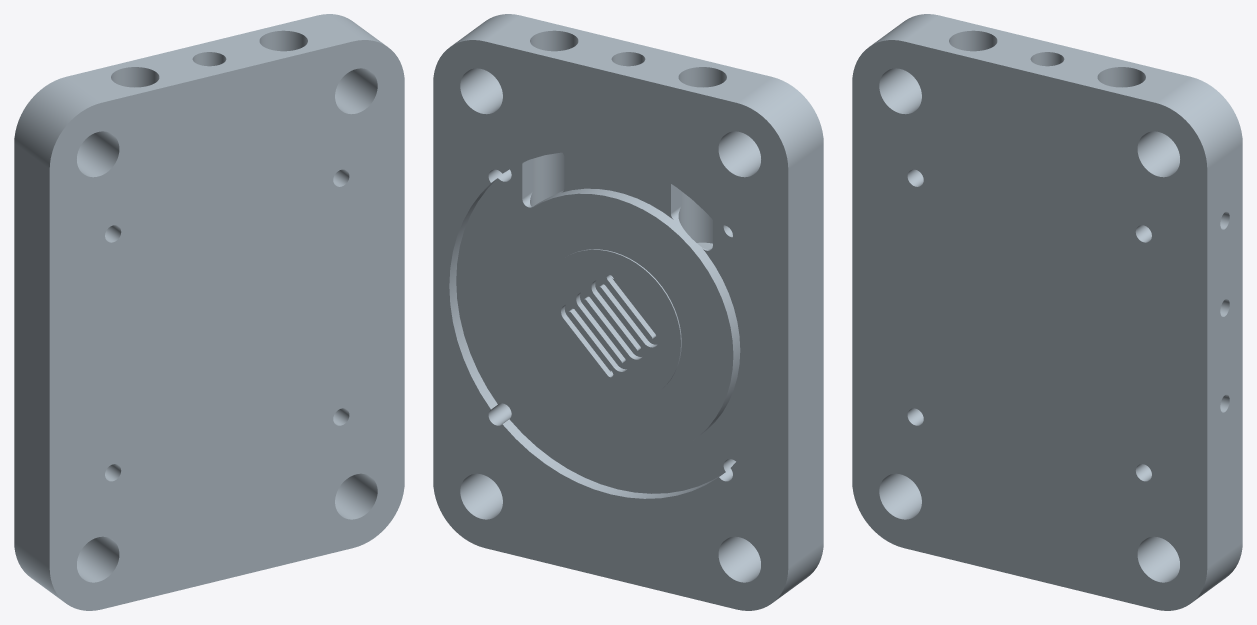
The model's file is ti_cathode_plate.obj.
The picture shows the model from 3 angles, left to right: view 1: azimuth 30°, elevation 25°; view 2: azimuth 150°, elevation 25°; view 3: azimuth 330°, elevation 25°; orthographic projection.
Visible parts, largest first — view 1: mesh84, mesh5, mesh2, mesh4, mesh85, mesh86, mesh88, mesh87, mesh6, mesh72, mesh65, mesh3; view 2: mesh83, mesh50, mesh79, mesh5, mesh48, mesh2, mesh67, mesh4, mesh56, mesh65, mesh72, mesh82 (+8 smaller); view 3: mesh84, mesh9, mesh2, mesh3, mesh86, mesh85, mesh87, mesh88, mesh8, mesh65, mesh72, mesh4.
Part boxes in pixels (x1=…): mesh84: x1=49, y1=40, x2=404, y2=610; mesh5: x1=14, y1=144, x2=49, y2=567; mesh2: x1=66, y1=15, x2=352, y2=102; mesh4: x1=14, y1=77, x2=100, y2=168; mesh85: x1=77, y1=131, x2=119, y2=177; mesh86: x1=335, y1=68, x2=377, y2=114; mesh88: x1=77, y1=536, x2=119, y2=582; mesh87: x1=335, y1=473, x2=377, y2=519; mesh6: x1=14, y1=542, x2=63, y2=601; mesh72: x1=111, y1=67, x2=159, y2=87; mesh65: x1=259, y1=30, x2=307, y2=51; mesh3: x1=318, y1=14, x2=385, y2=45; mesh83: x1=433, y1=40, x2=788, y2=610; mesh50: x1=488, y1=193, x2=733, y2=457; mesh79: x1=456, y1=163, x2=771, y2=493; mesh5: x1=788, y1=144, x2=823, y2=567; mesh48: x1=539, y1=249, x2=680, y2=402; mesh2: x1=485, y1=15, x2=771, y2=102; mesh67: x1=562, y1=152, x2=673, y2=219; mesh4: x1=737, y1=77, x2=823, y2=168; mesh56: x1=532, y1=188, x2=740, y2=434; mesh65: x1=530, y1=30, x2=578, y2=206; mesh72: x1=678, y1=67, x2=726, y2=243; mesh82: x1=449, y1=179, x2=497, y2=409; mesh84: x1=852, y1=40, x2=1207, y2=610; mesh9: x1=1207, y1=144, x2=1242, y2=567; mesh2: x1=904, y1=15, x2=1190, y2=102; mesh3: x1=1156, y1=77, x2=1242, y2=168; mesh86: x1=1137, y1=131, x2=1179, y2=177; mesh85: x1=879, y1=68, x2=921, y2=114; mesh87: x1=1137, y1=536, x2=1179, y2=582; mesh88: x1=879, y1=473, x2=921, y2=519; mesh8: x1=1193, y1=542, x2=1242, y2=601; mesh65: x1=1097, y1=67, x2=1145, y2=87; mesh72: x1=949, y1=30, x2=997, y2=51; mesh4: x1=871, y1=14, x2=938, y2=45.
Bounding box in the file's own units: 0.055 × 0.075 × 0.00973.
